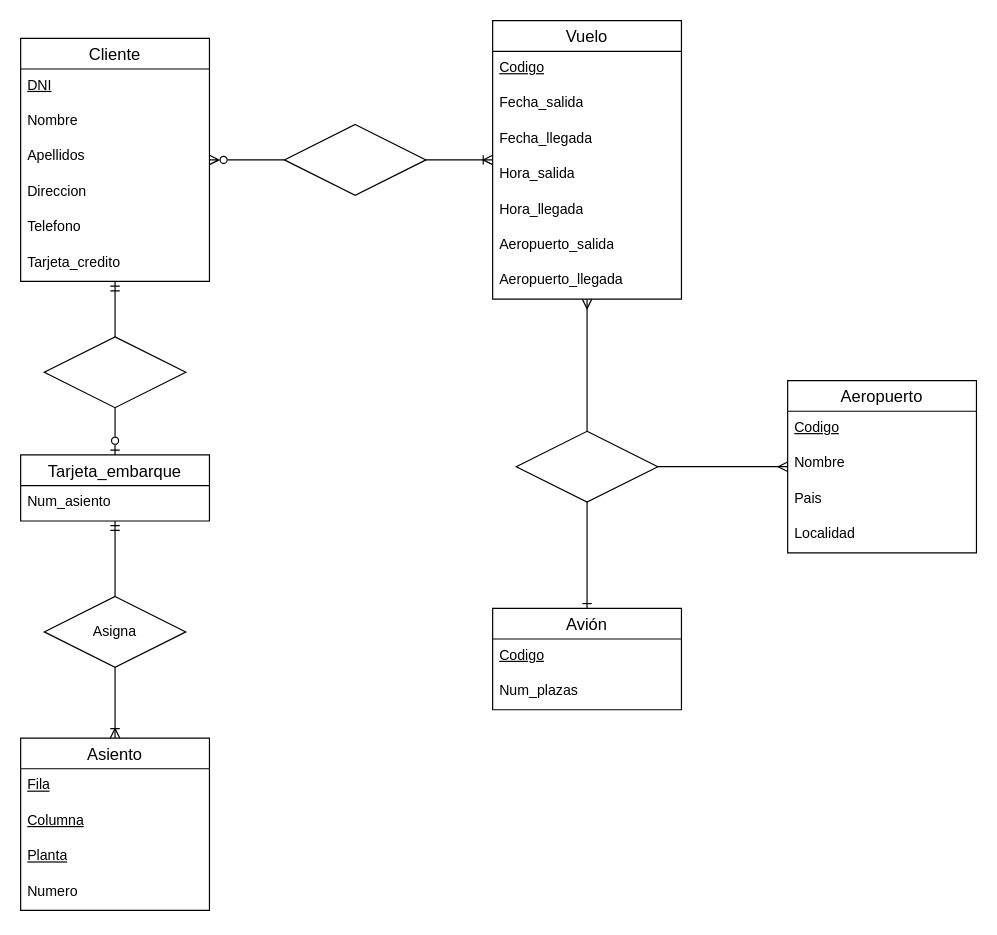
Some shapes in this 997 by 935 pixel diagram are drawn without their labels. The shapes that lost their labels are listed below. From the top down, each one's centre as x and y in pixels, then its label:
the point at 354,159: Reserva
the point at 114,372: Saca
the point at 586,466: Viaja
